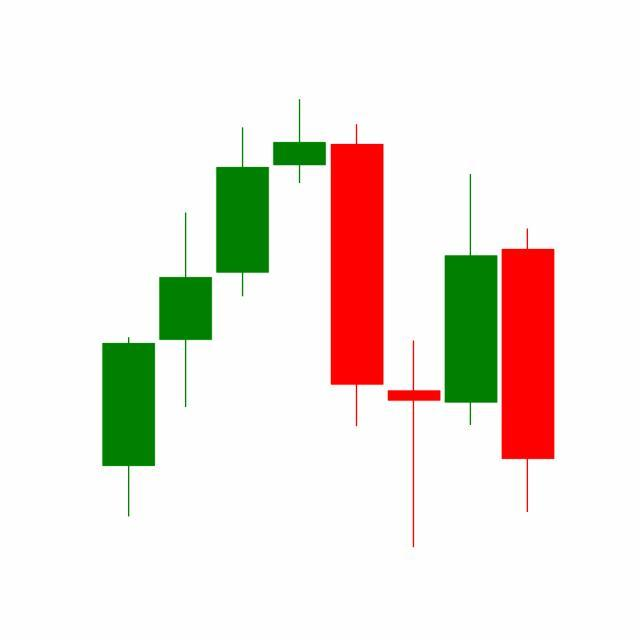Morning Doji Star: (328, 120, 500, 549)
